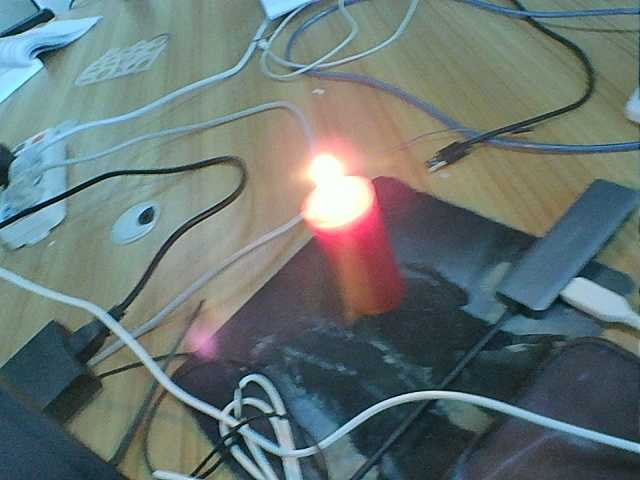candle: (311, 221, 412, 317)
fire: (298, 154, 363, 216)
